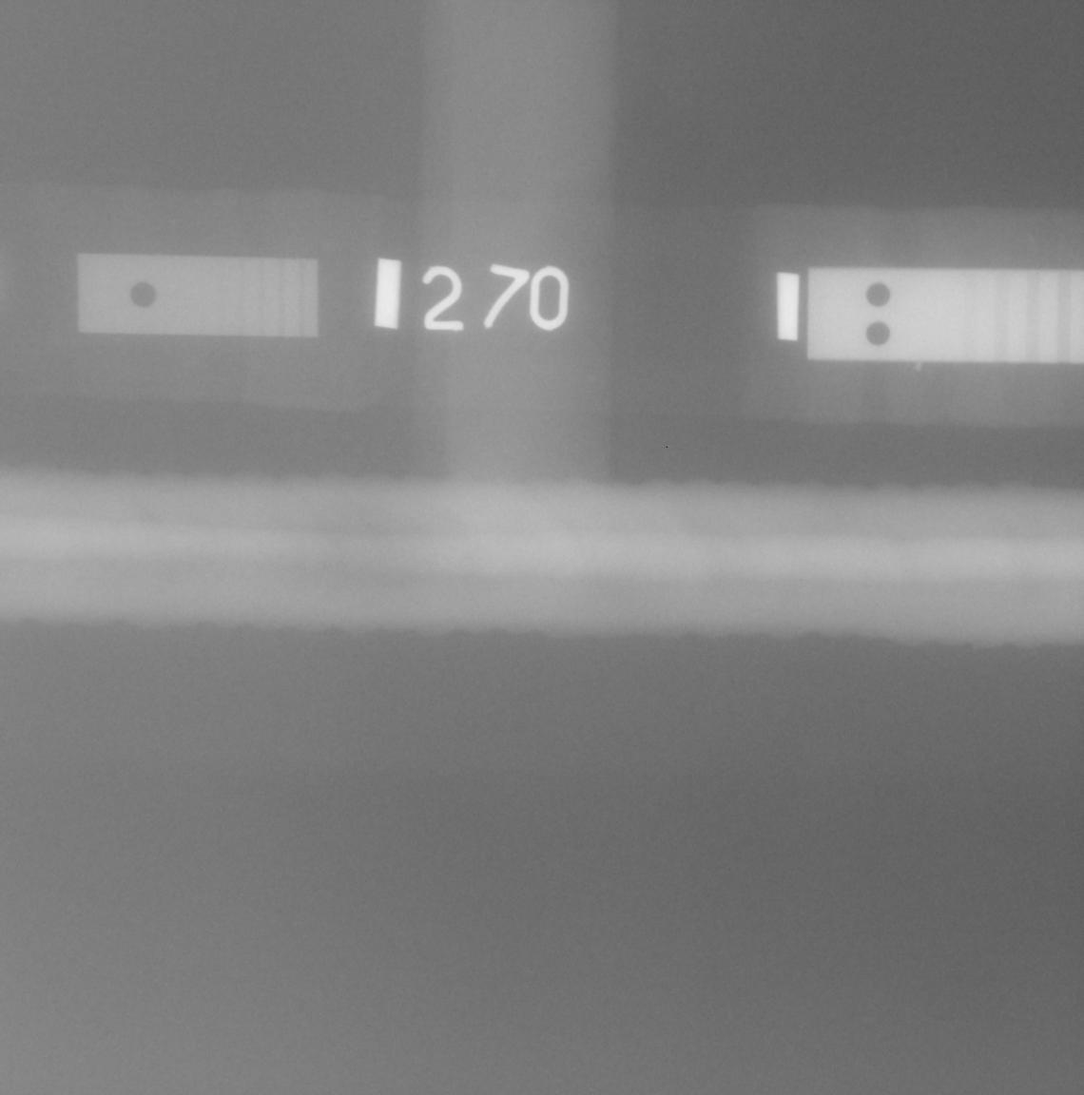Reference Standard 1: (77, 253, 317, 337)
